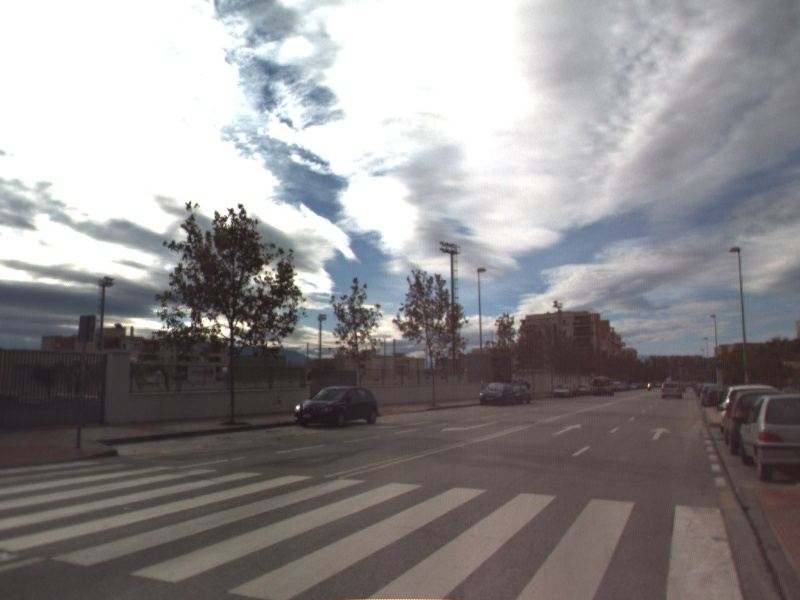STRAIGHT: (550, 422, 583, 437), (648, 425, 674, 442)
